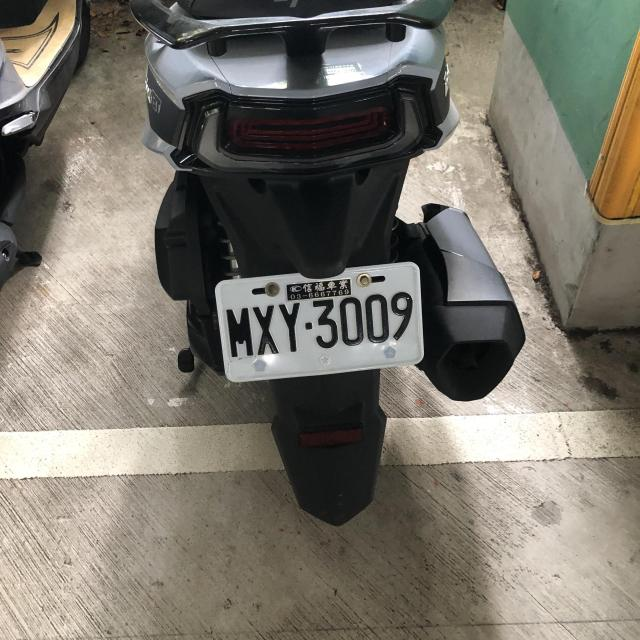W: (213, 263, 424, 382)
